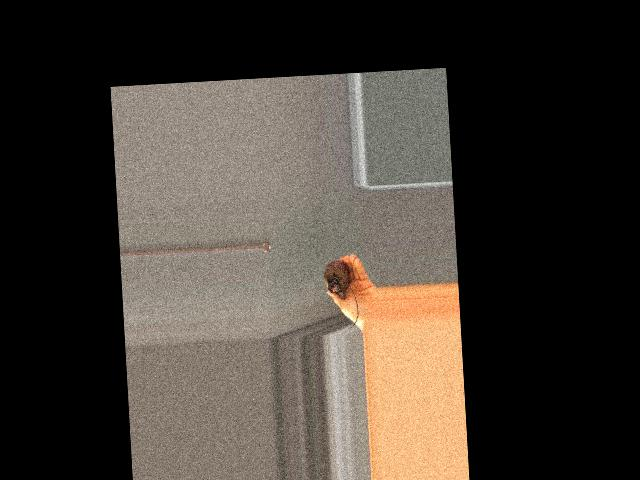beet: (323, 251, 359, 329)
